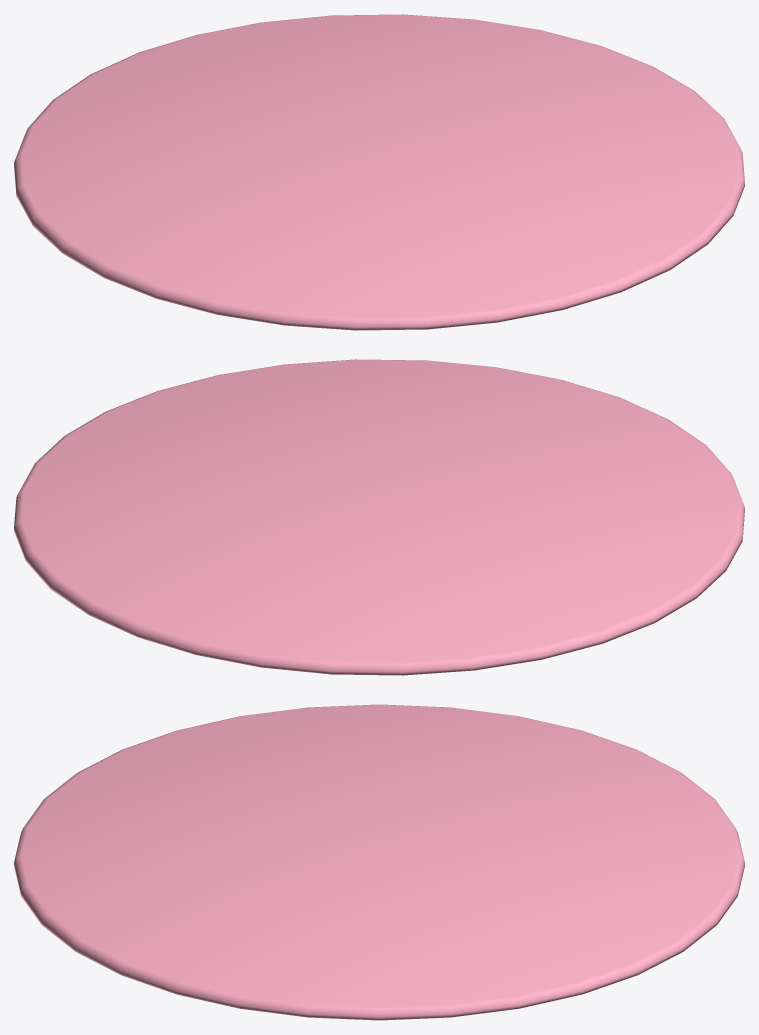
The model's file is Rug.fbx.
3 views of the same model, one above another, from view 1: azimuth 30°, elevation 25°; view 2: azimuth 150°, elevation 25°; view 3: azimuth 270°, elevation 25° (orthographic).
Visible parts, largest first — view 1: Rug; view 2: Rug; view 3: Rug.
Part boxes in pixels (x1,y1,x2,y2): Rug: [14, 14, 744, 330]; Rug: [14, 359, 744, 675]; Rug: [14, 704, 744, 1020].
Size of the model in its own units: 6 by 0.09 by 6.
